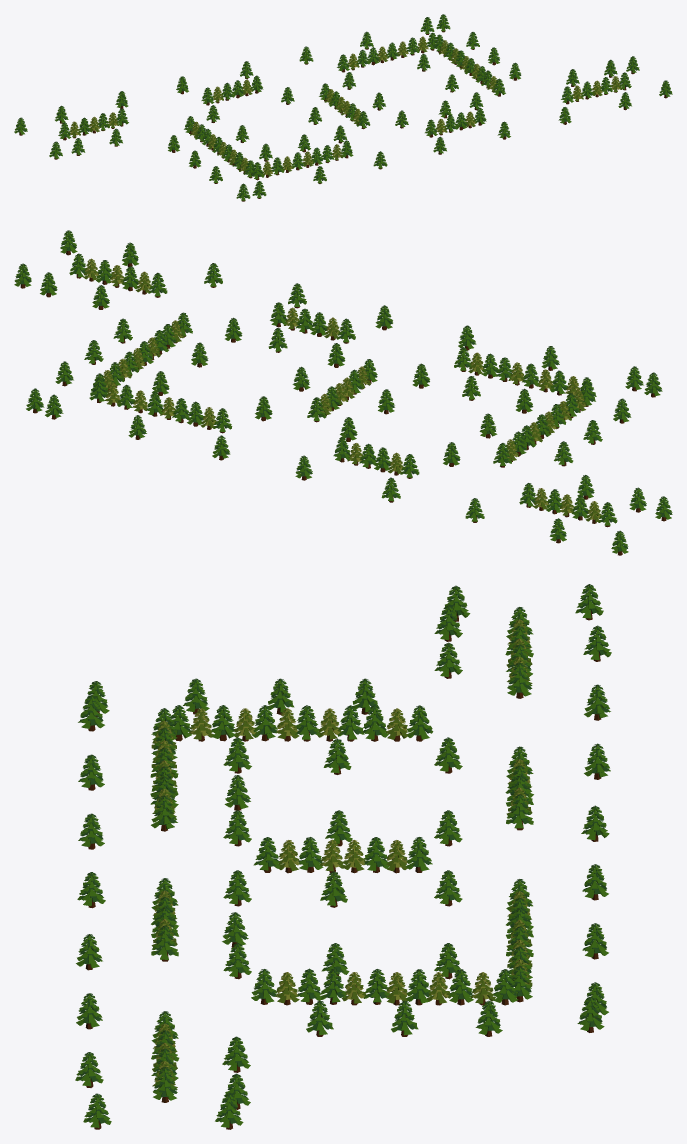
File: POHON_TENGAH.fbx
3 renders of one model, top to bottom at view 1: azimuth 30°, elevation 25°; view 2: azimuth 150°, elevation 25°; view 3: azimuth 270°, elevation 25°, orthographic. The views are drawn at different scales.
Visible parts, largest first — view 1: Pohon 2.002; view 2: Pohon 2.002; view 3: Pohon 2.002.
Boxes of the visible parts, left/top/right/bottom form: Pohon 2.002: left=14, top=14, right=672, bottom=201; Pohon 2.002: left=14, top=230, right=672, bottom=555; Pohon 2.002: left=75, top=584, right=611, bottom=1129.
Bounding box in the file's own units: 27439 × 920 × 11942.
